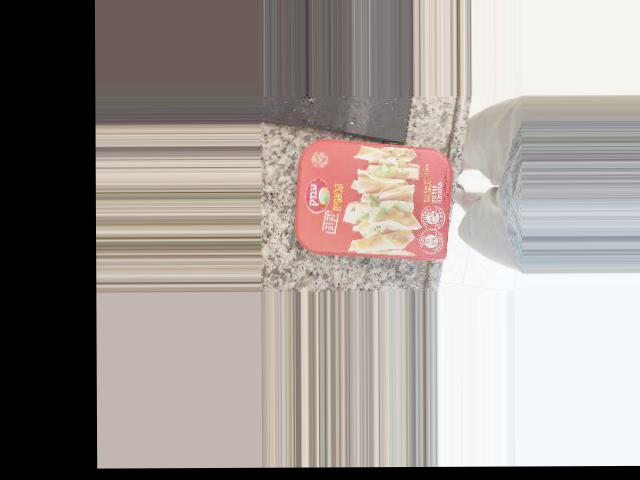cheese: (326, 121, 484, 246)
